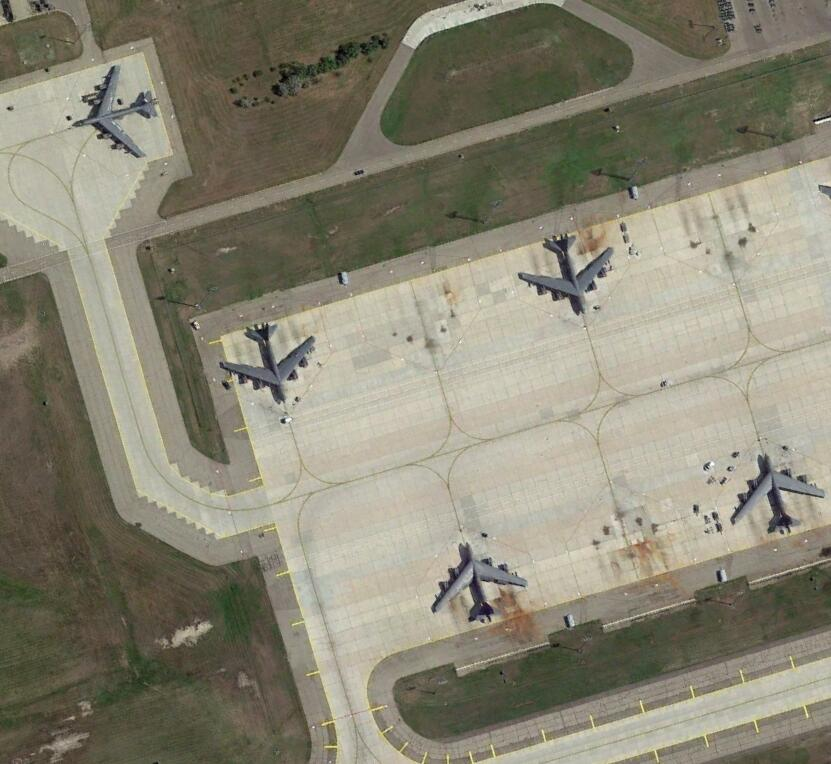A8: (514, 232, 617, 319), (71, 64, 161, 162), (217, 321, 317, 407), (728, 453, 827, 539), (431, 541, 530, 626)
